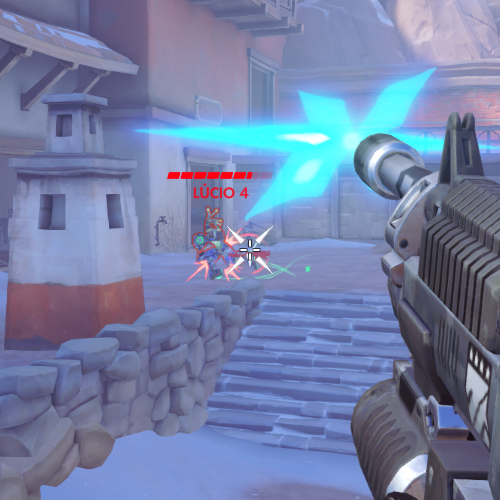hpbar: (166, 171, 274, 180)
